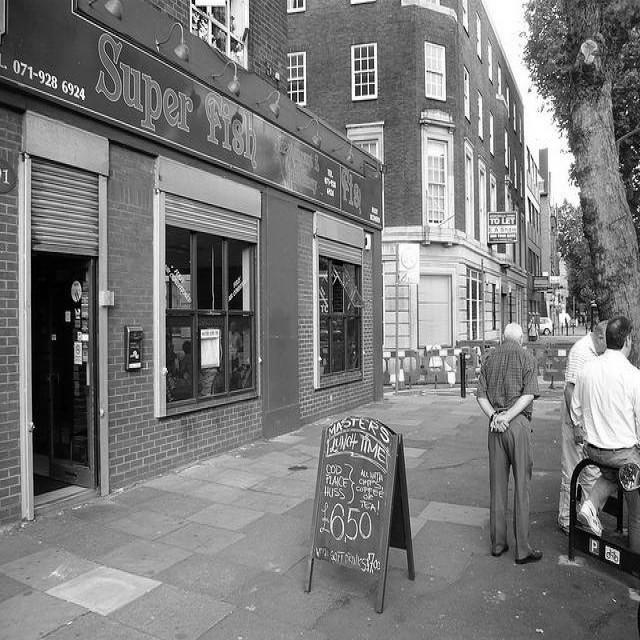vehicle: (618, 461, 640, 491), (540, 316, 552, 336), (570, 317, 578, 327)
